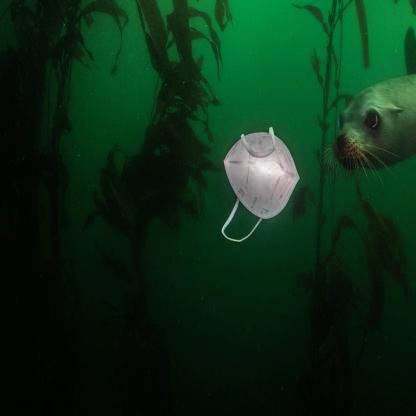Mask: (217, 127, 302, 247)
